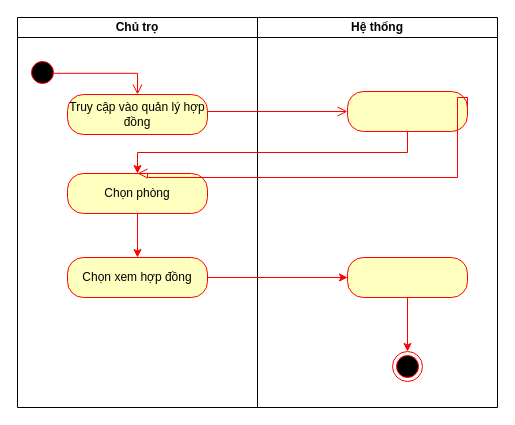
The diagram is 515 pixels wide and 425 high, and some of its shapes have lost their labels. The box of each missing label's shape, as (x1, y1, x2, y2) in pixels:
Hiển thị chi tiết bản hợp đồng.: (346, 256, 468, 298)
Hiển thị danh sách các phòng: (346, 90, 468, 132)
